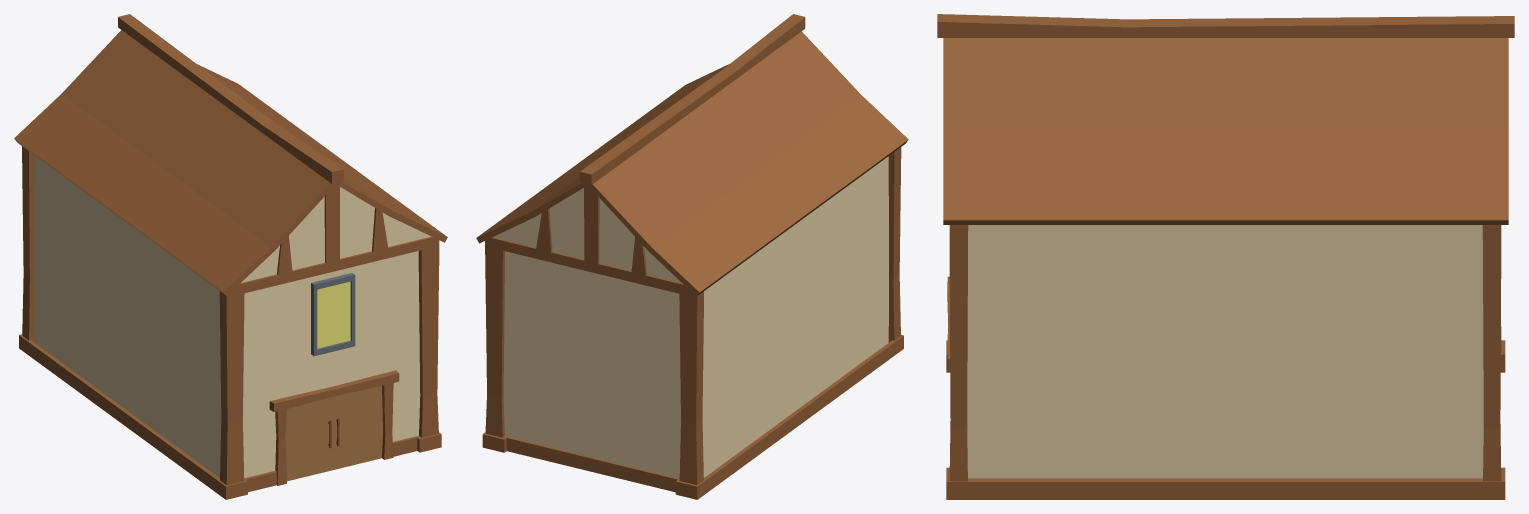
File: Barn_03.fbx
The picture shows the model from 3 angles, left to right: view 1: azimuth 30°, elevation 25°; view 2: azimuth 150°, elevation 25°; view 3: azimuth 270°, elevation 25°; orthographic projection. The views are drawn at different scales.
Parts seen in each view (by area): view 1: Barn_03; view 2: Barn_03; view 3: Barn_03.
Part boxes in pixels (bbox=[...]): Barn_03: bbox=[14, 14, 447, 499]; Barn_03: bbox=[476, 14, 908, 499]; Barn_03: bbox=[937, 14, 1514, 499].
Bounding box in the file's own units: 643 × 837 × 1065.
